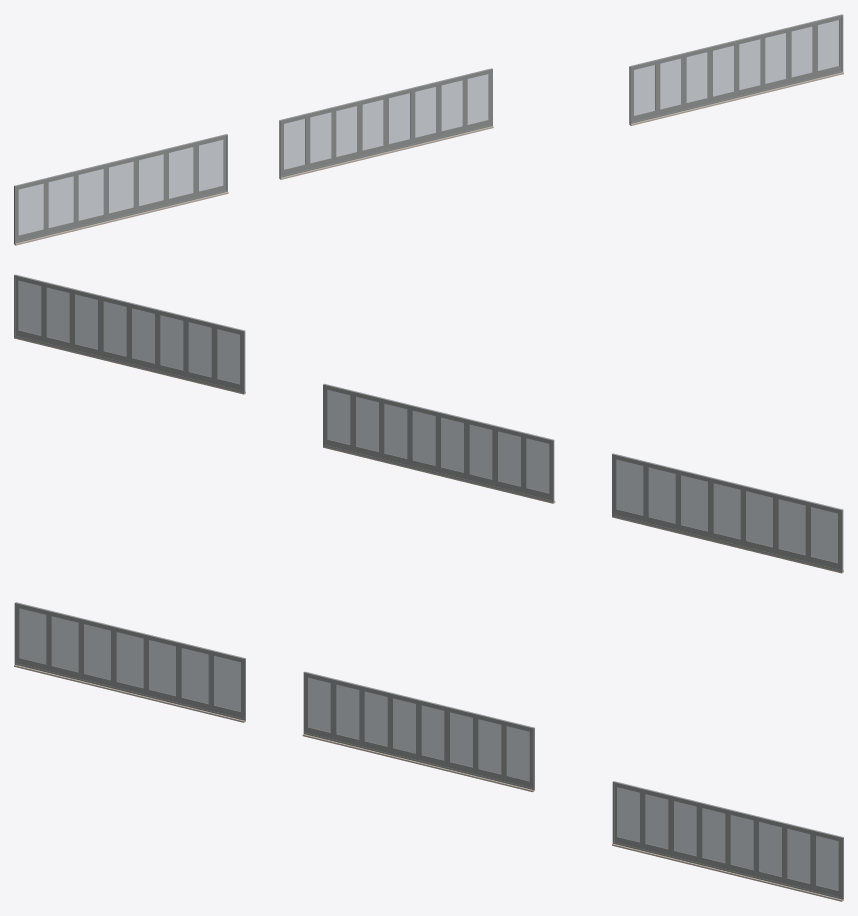
The model's file is TrueVision__MainBuildingModel__ProposedDoors__MeshModel__.glb.
3 views of the same model, one above another, from view 1: azimuth 30°, elevation 25°; view 2: azimuth 150°, elevation 25°; view 3: azimuth 330°, elevation 25° (orthographic). The views are drawn at different scales.
Parts seen in each view (by area): view 1: Layer0::MAT101__Glass__ClearDefault (×23), Layer0::MAT304__Paint__Farrow&Ball__Down Pipe (×29), Layer0::MAT541__Timber__Sapele (×3); view 2: Layer0::MAT101__Glass__ClearDefault (×23), Layer0::MAT304__Paint__Farrow&Ball__Down Pipe (×26); view 3: Layer0::MAT101__Glass__ClearDefault (×23), Layer0::MAT304__Paint__Farrow&Ball__Down Pipe (×26), Layer0::MAT541__Timber__Sapele (×3).
Part boxes in pixels (<box>): Layer0::MAT101__Glass__ClearDefault (×23): <box>18,20,838,235</box>; Layer0::MAT304__Paint__Farrow&Ball__Down Pipe (×29): <box>15,14,841,243</box>; Layer0::MAT541__Timber__Sapele (×3): <box>14,72,843,245</box>; Layer0::MAT101__Glass__ClearDefault (×23): <box>18,280,837,562</box>; Layer0::MAT304__Paint__Farrow&Ball__Down Pipe (×26): <box>15,275,841,569</box>; Layer0::MAT101__Glass__ClearDefault (×23): <box>19,608,838,890</box>; Layer0::MAT304__Paint__Farrow&Ball__Down Pipe (×26): <box>16,602,842,897</box>; Layer0::MAT541__Timber__Sapele (×3): <box>14,665,843,901</box>.
Size of the model in its own units: 29.96 by 2.1 by 2.22.
